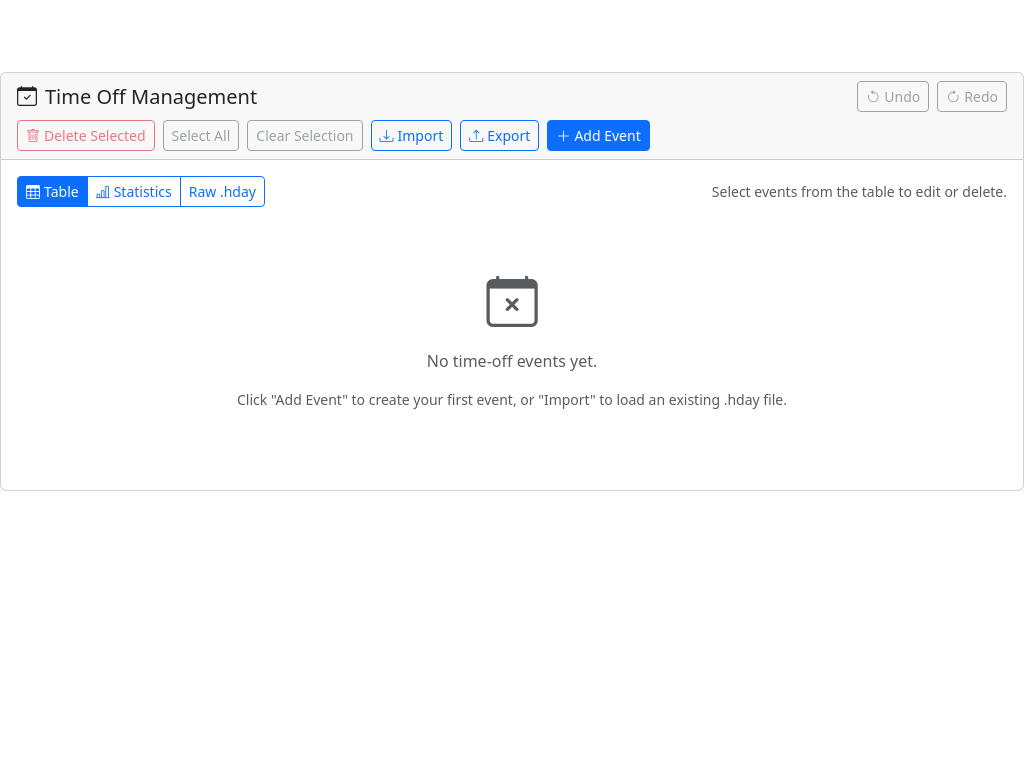
Test: TimeOffView › Raw Content Editor › should reset raw content back to the stored value
Click the button "Raw .hday" at (222, 192), box [180,176,265,207]
(page scrolled)
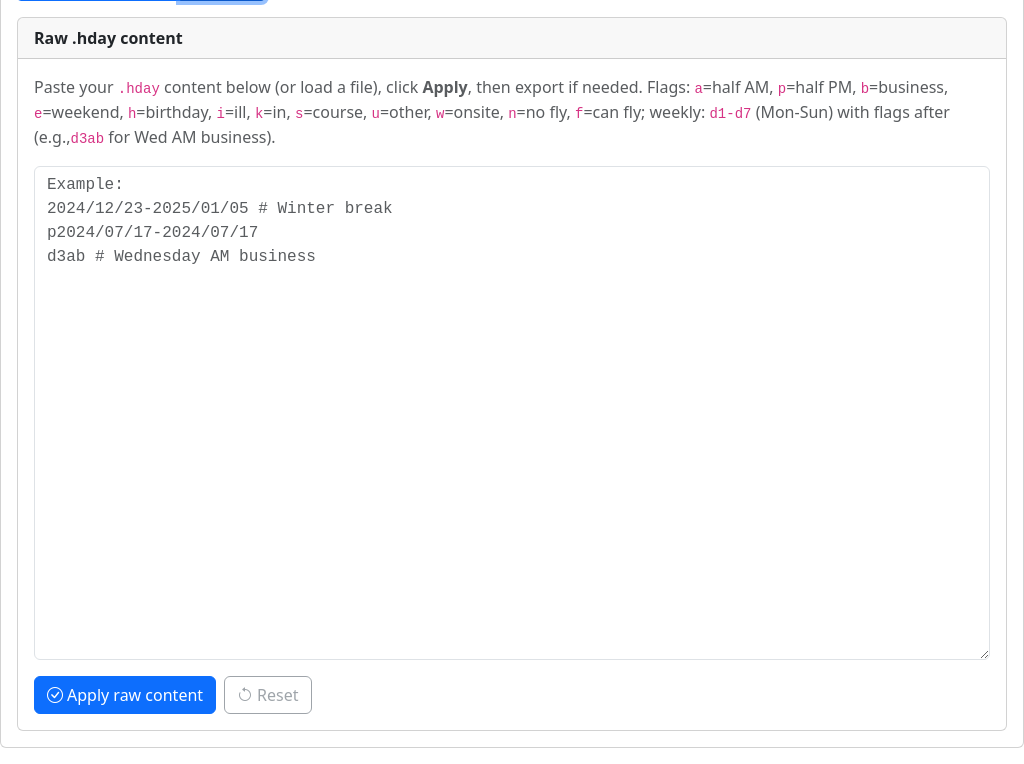
Type "2025/01/15 # Raw vacation" into the text box named "Raw .hday content" at (512, 413), box [34,166,990,660]
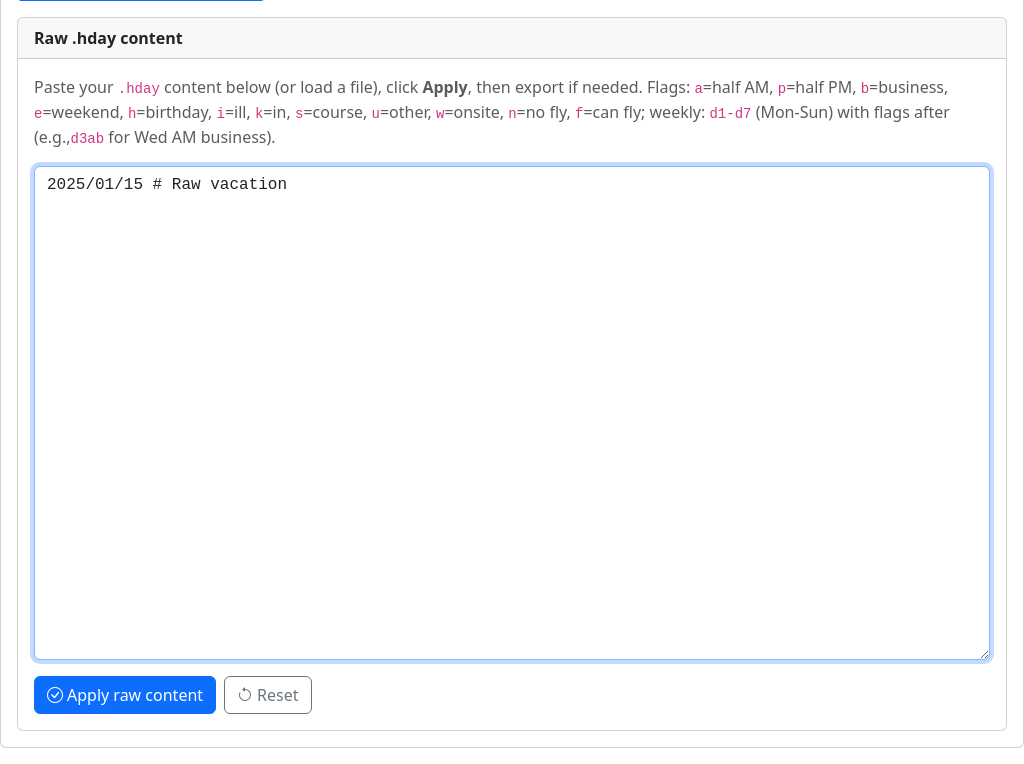
Click the button "Reset" at (268, 695), box [224,676,312,714]
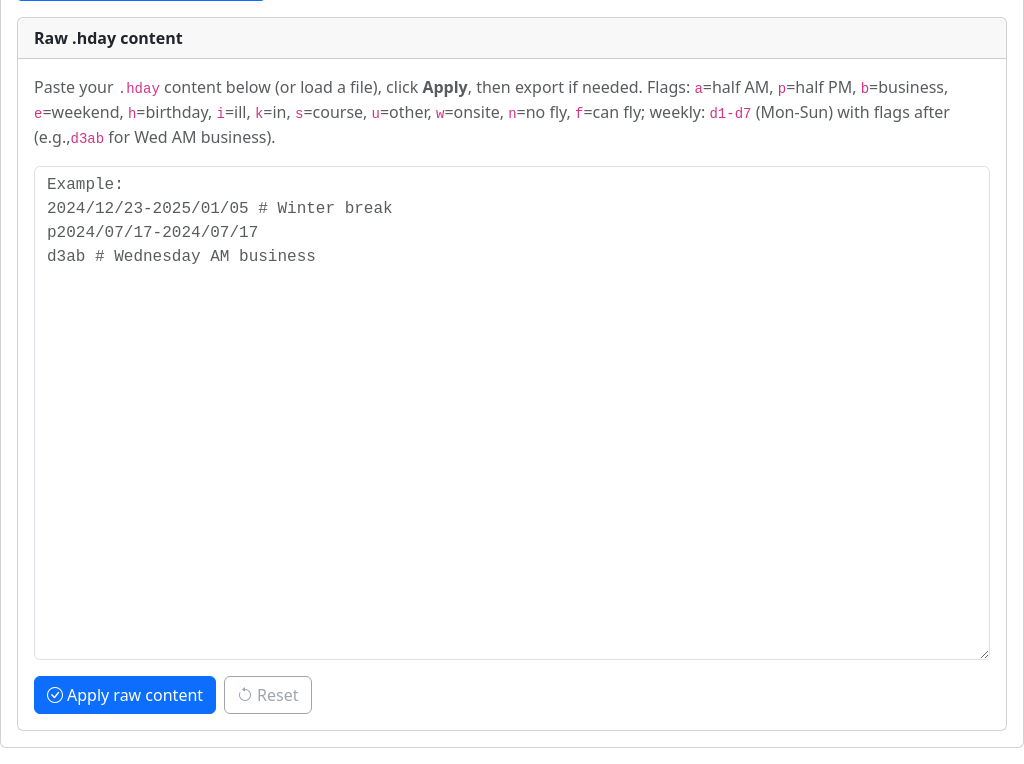
Check: the text box named "Raw .hday content" is empty
